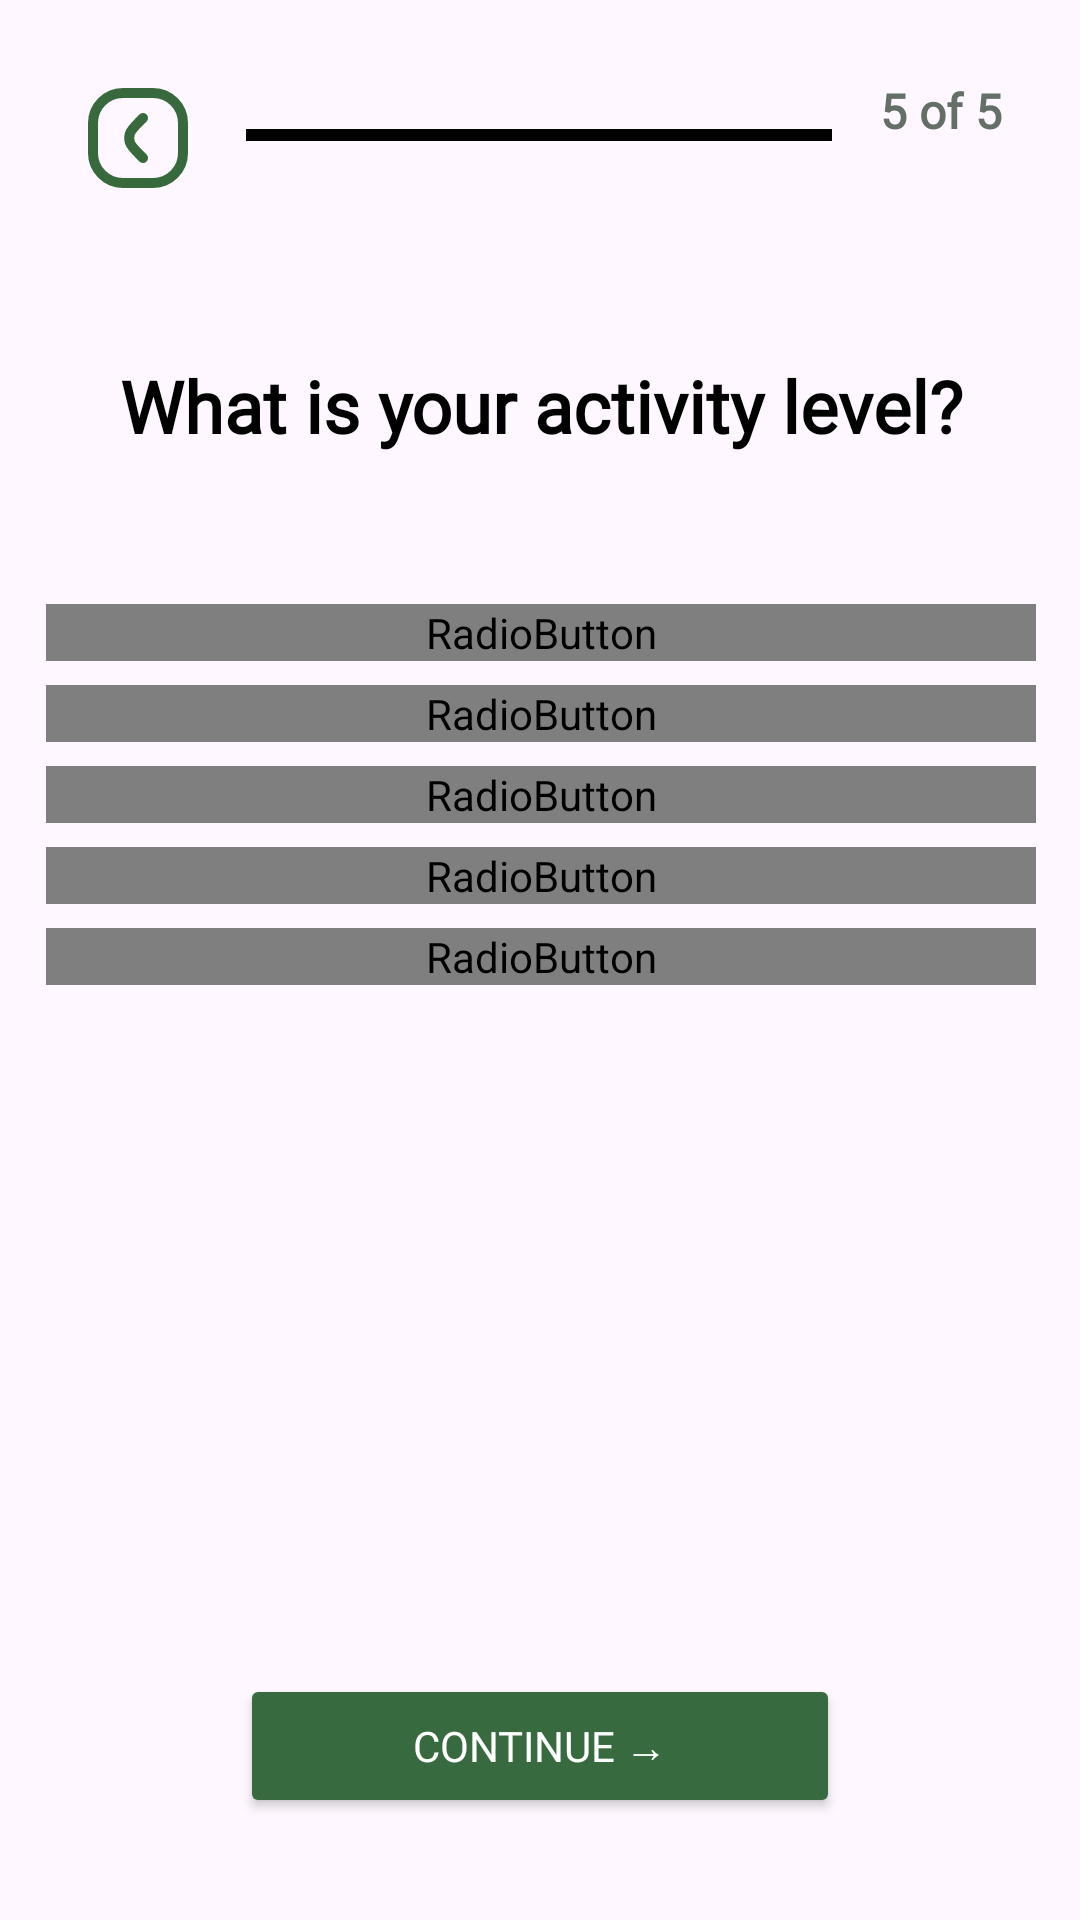

Icons on this 1080×1920 Android screen, each with its box as (x1, y1, x2, y2):
back: (88, 88, 188, 188)
